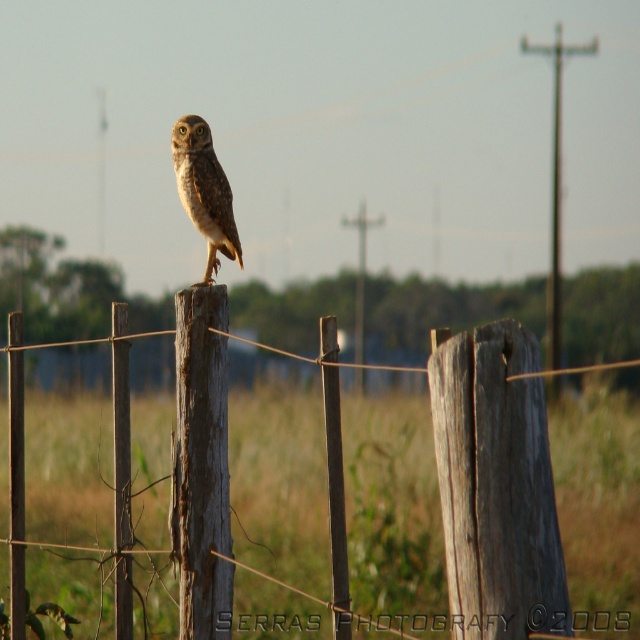Owl: (171, 113, 242, 284)
